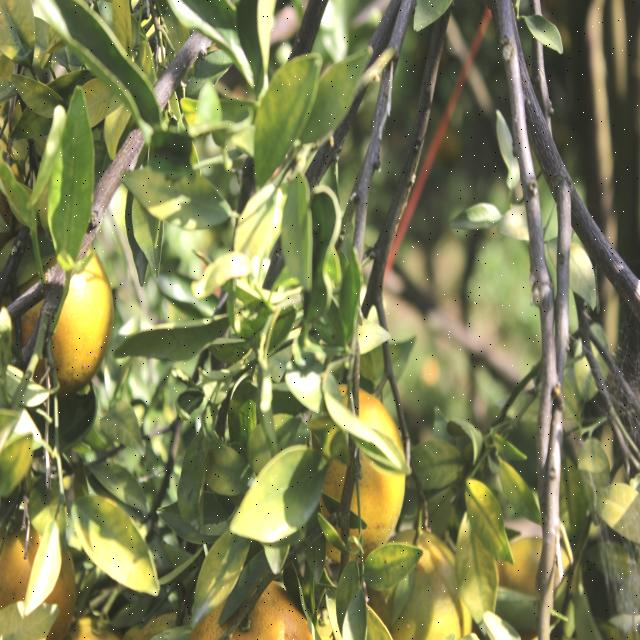greening: (234, 447, 326, 552), (48, 94, 97, 275), (78, 498, 163, 600), (248, 53, 316, 176), (314, 46, 369, 135)
